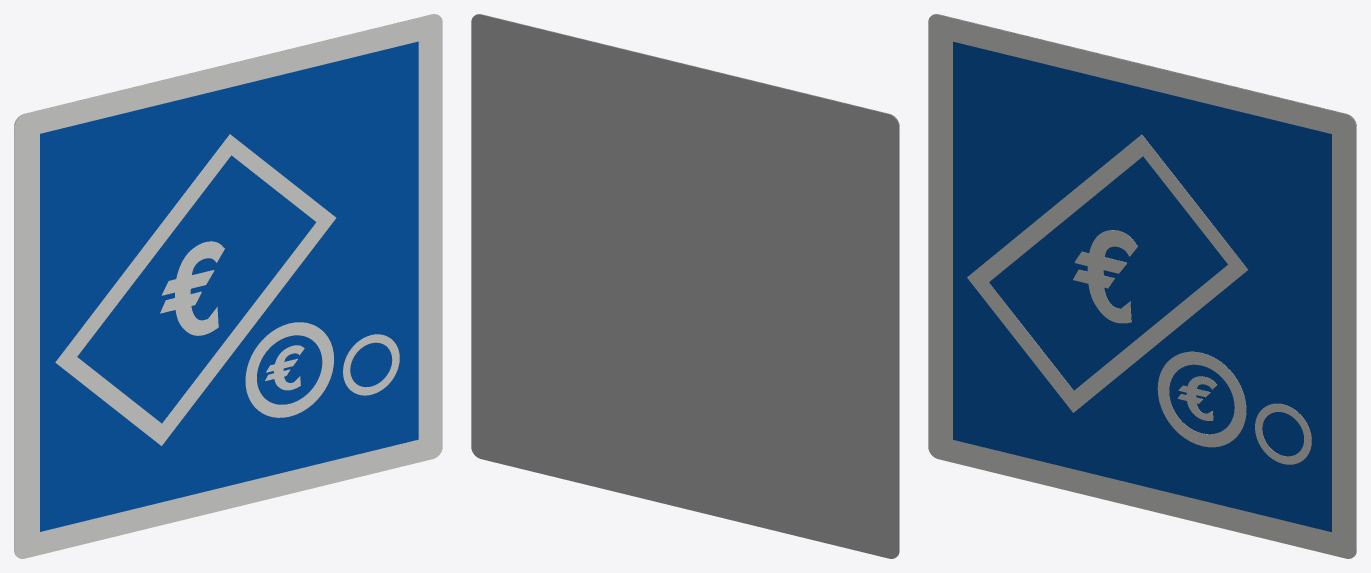
The picture shows the model from 3 angles, left to right: view 1: azimuth 30°, elevation 25°; view 2: azimuth 150°, elevation 25°; view 3: azimuth 330°, elevation 25°; orthographic projection.
Visible parts, largest first — view 1: C64c2_p01, C64c2_p00, C64c2_p06, C64c2_p04, C64c2_p02, C64c2_p05, C64c2_dos, C64c2_p03; view 2: C64c2_dos, C64c2_p00; view 3: C64c2_p01, C64c2_p00, C64c2_p06, C64c2_p04, C64c2_p02, C64c2_p05, C64c2_dos, C64c2_p03.
Part boxes in pixels (x1,y1,x2,y2): C64c2_p01: [40, 41, 418, 531]; C64c2_p00: [14, 14, 442, 558]; C64c2_p06: [55, 134, 336, 445]; C64c2_p04: [245, 322, 333, 417]; C64c2_p02: [160, 241, 224, 335]; C64c2_p05: [343, 334, 399, 395]; C64c2_dos: [14, 14, 437, 554]; C64c2_p03: [265, 345, 304, 390]; C64c2_dos: [471, 14, 899, 558]; C64c2_p00: [476, 14, 899, 554]; C64c2_p01: [953, 41, 1331, 531]; C64c2_p00: [928, 14, 1356, 558]; C64c2_p06: [967, 134, 1247, 412]; C64c2_p04: [1157, 351, 1246, 447]; C64c2_p02: [1073, 230, 1137, 323]; C64c2_p05: [1255, 403, 1311, 464]; C64c2_dos: [933, 14, 1356, 554]; C64c2_p03: [1177, 376, 1216, 420].
Bounding box in the file's own units: 0.7 × 0.6949 × 0.0043.
